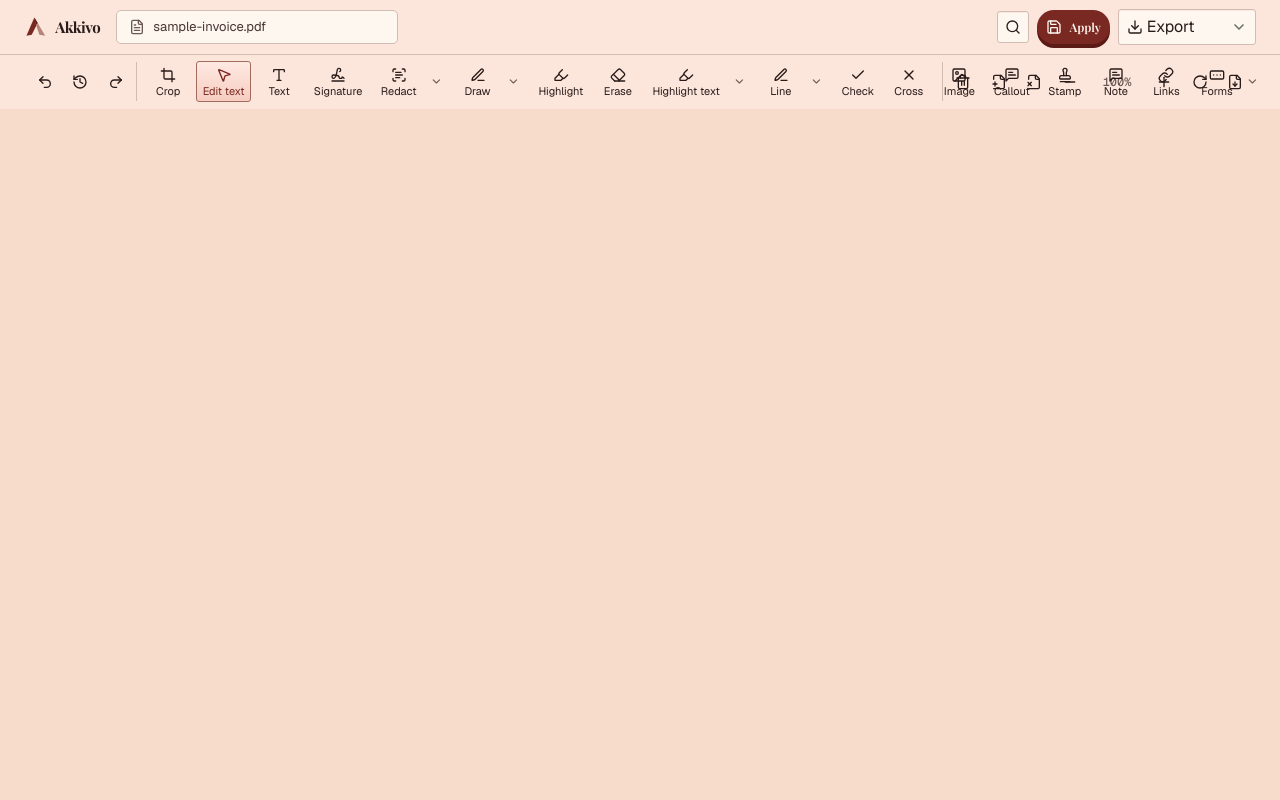
Test case: ToolRibbon › history dialog › opens, lists entries newest-first, and shows the newest selected by default
The image size is (1280, 800).
Click the button titled "Undo history" at (80, 82), box [65,62,95,101]
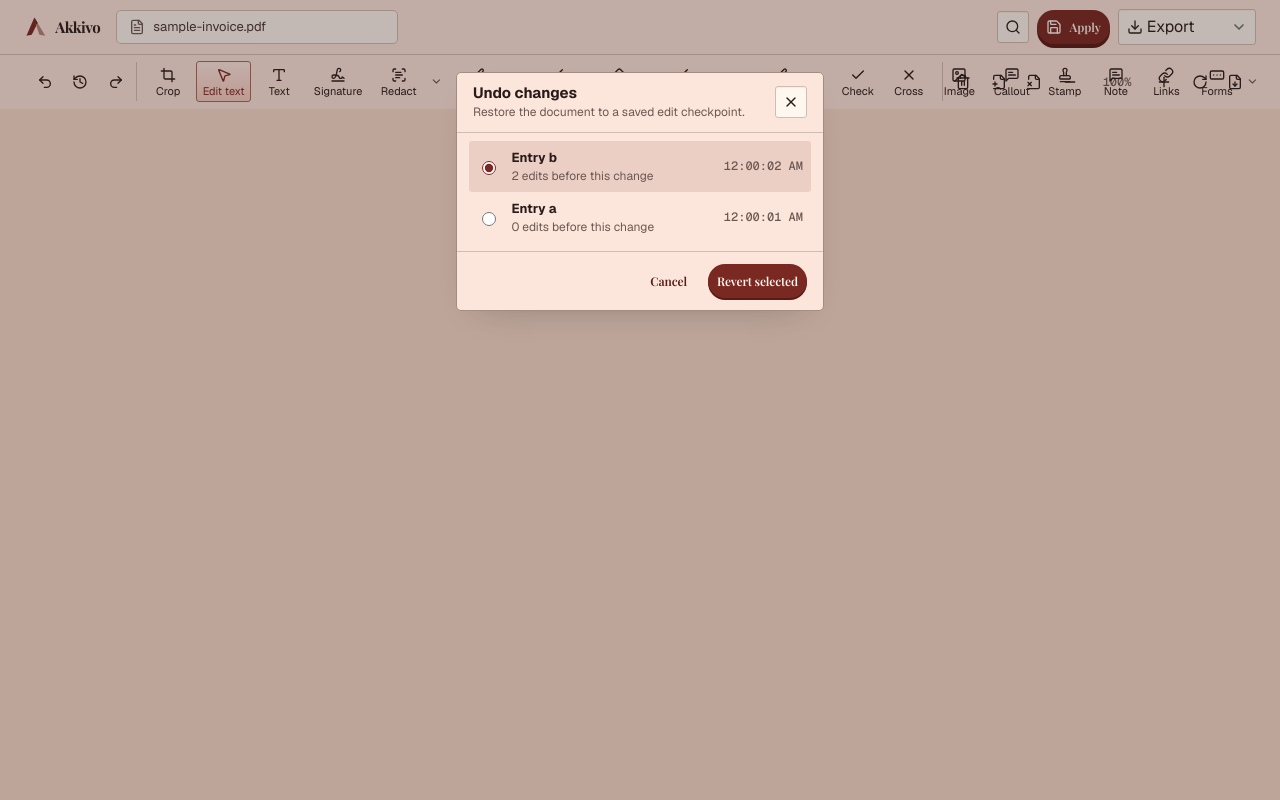
Result: the radio button labelled "Entry b 2 edits before this change 12:00:02 AM" is checked at [482,161,496,175]
Result: the text "Entry b" is shown at [511,149,557,166]
Result: the text "2 edits before this change" is shown at [511,168,654,184]
